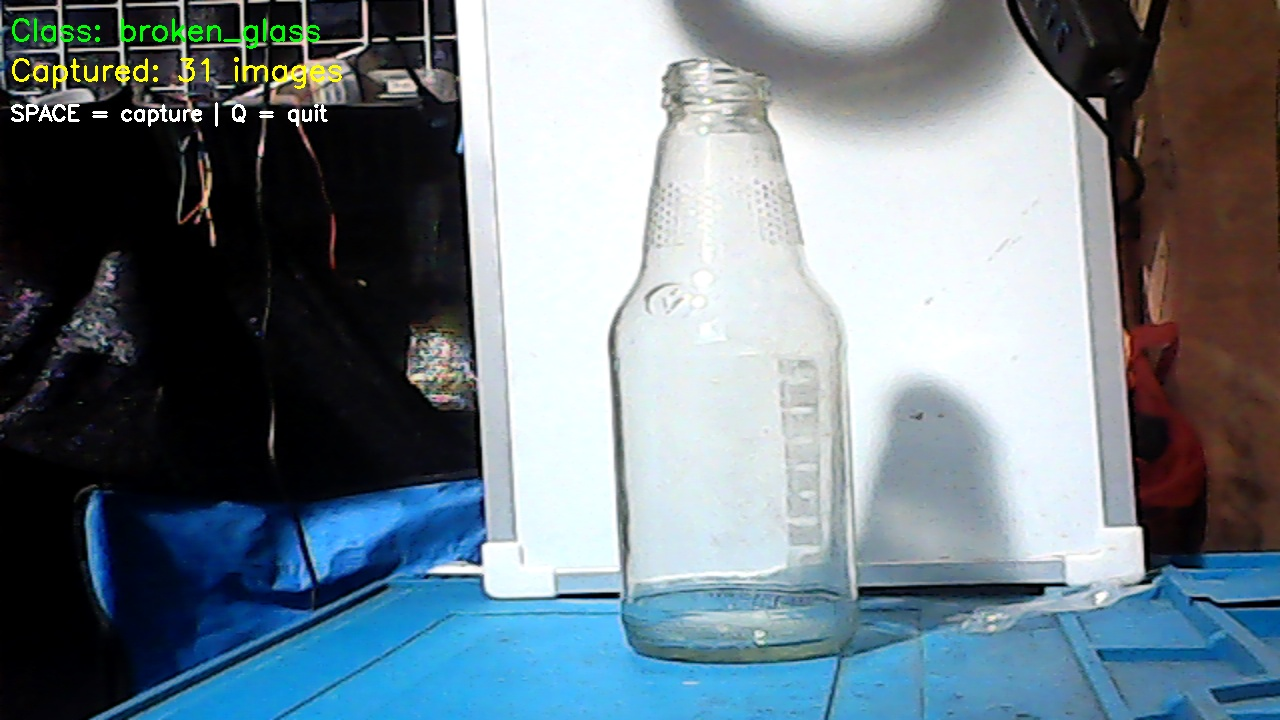broken_glass: (631, 48, 869, 660)
